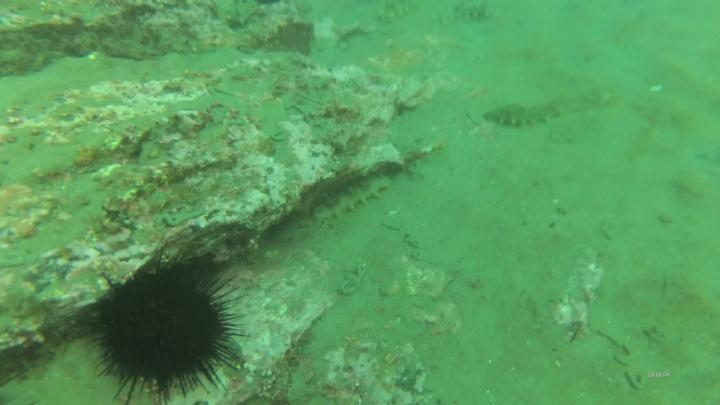echinus: (81, 247, 256, 405)
holothurian: (485, 89, 614, 132), (311, 171, 394, 225)
